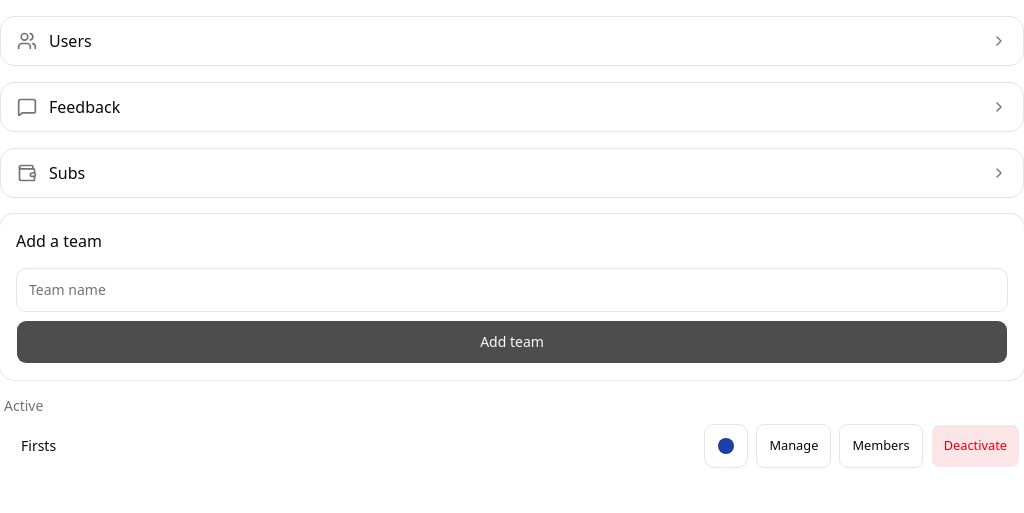
it: create form (AC4) › maps a duplicate to the field, not a toast
Step 1. Type "firsts" into the field with placeholder "Team name" → (512, 290), box [16,268,1008,312]
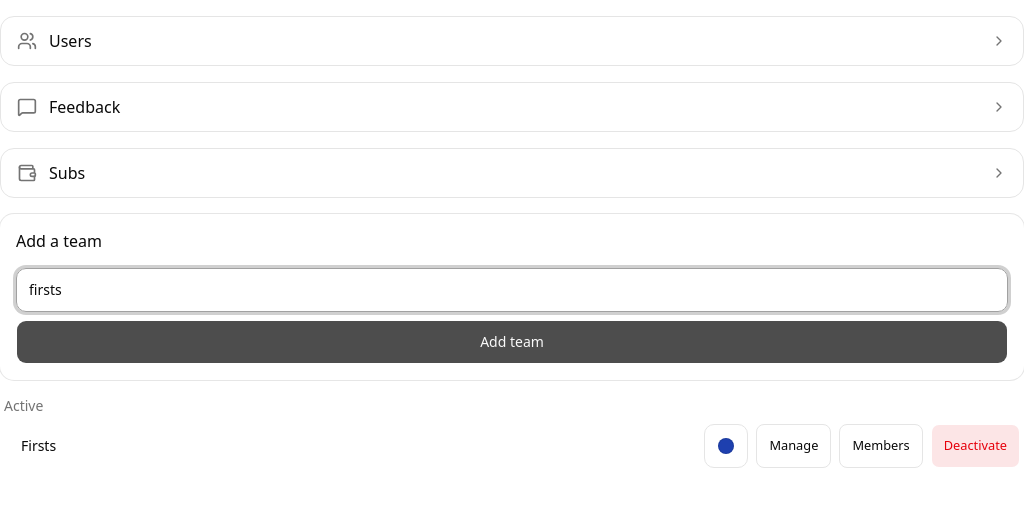
Step 2. Click the button "Add team" → click(512, 342), box [16,320,1008,364]
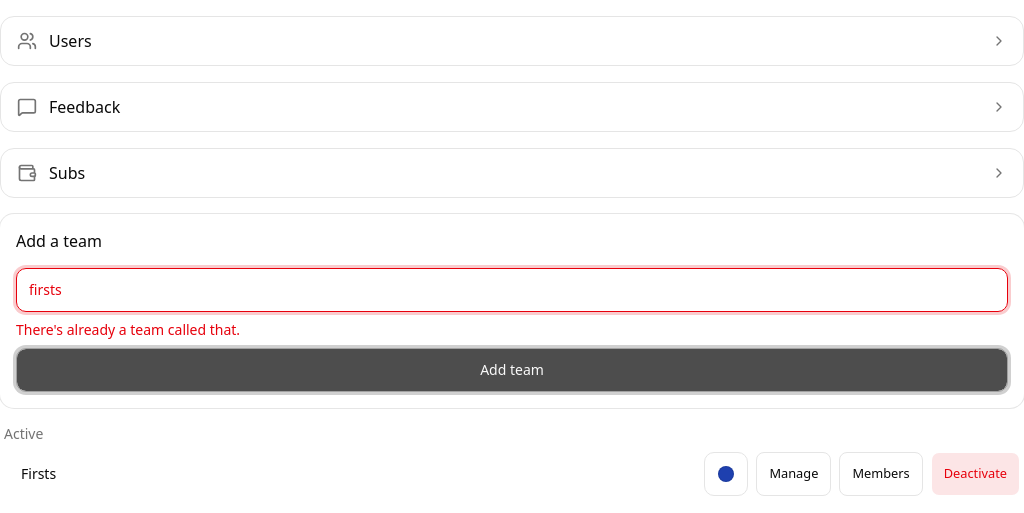
Expected: the text "There's already a team called that." is shown, [16,320,240,339]
